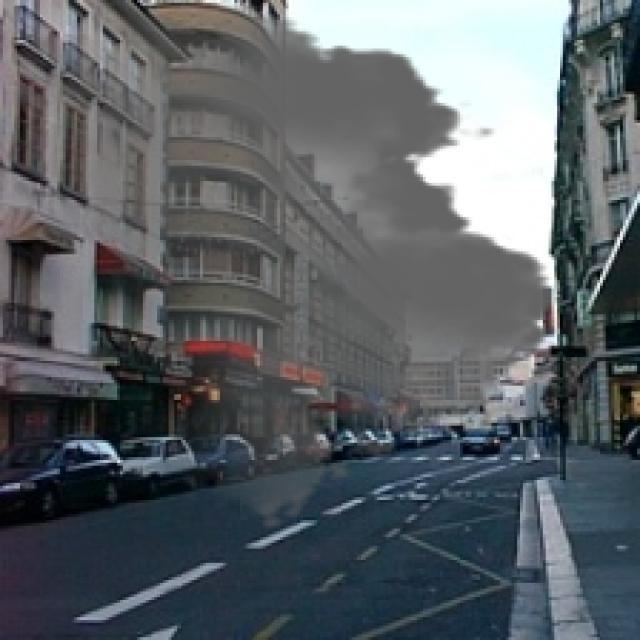Smoke: (2, 2, 572, 532)
